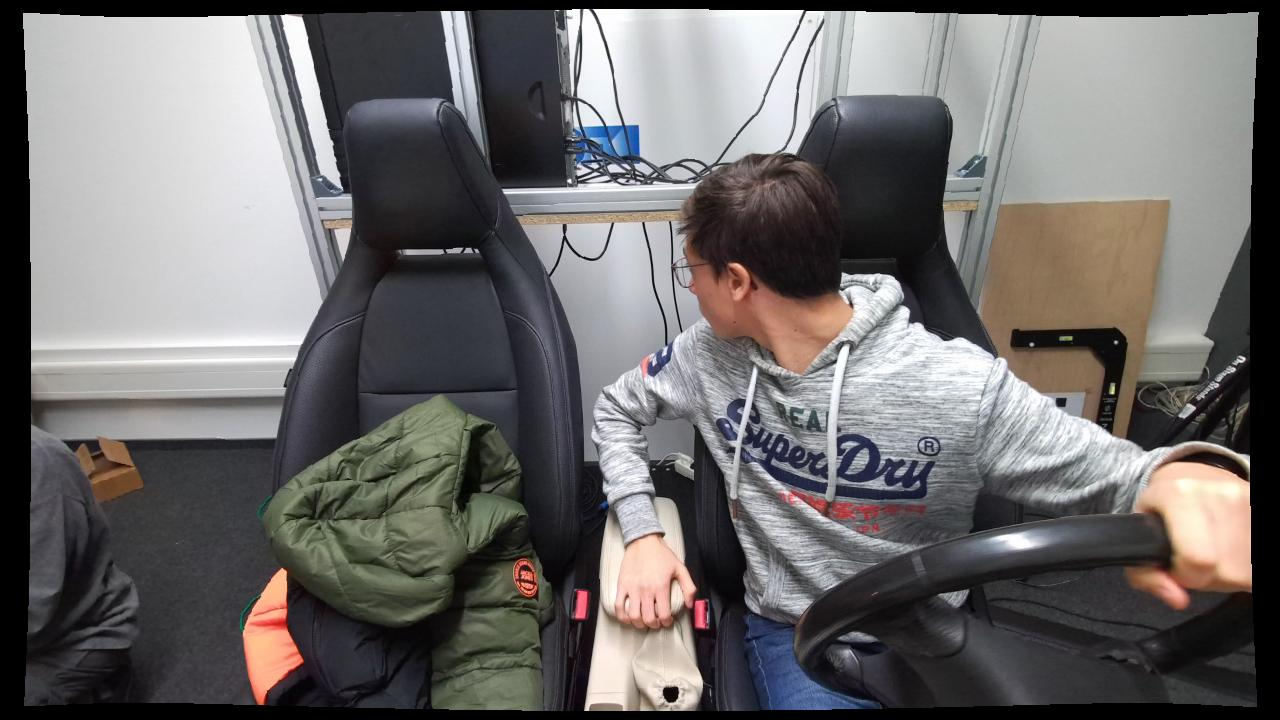Distracted: (621, 150, 1039, 696)
